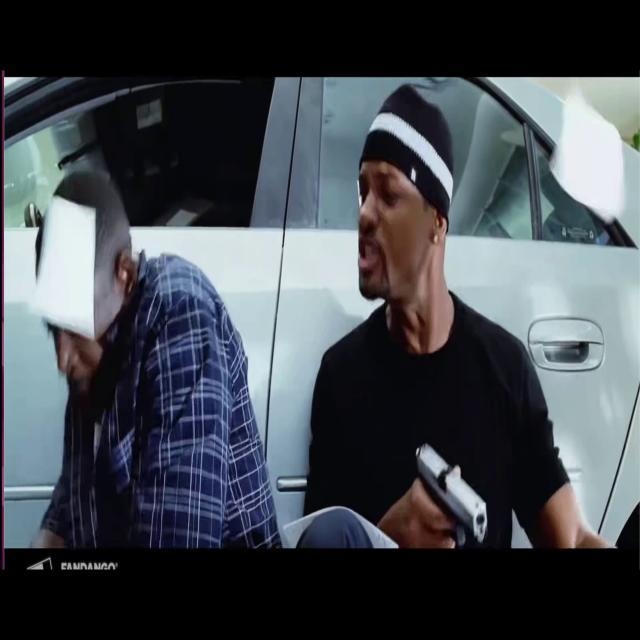weapons: (402, 422, 496, 548)
